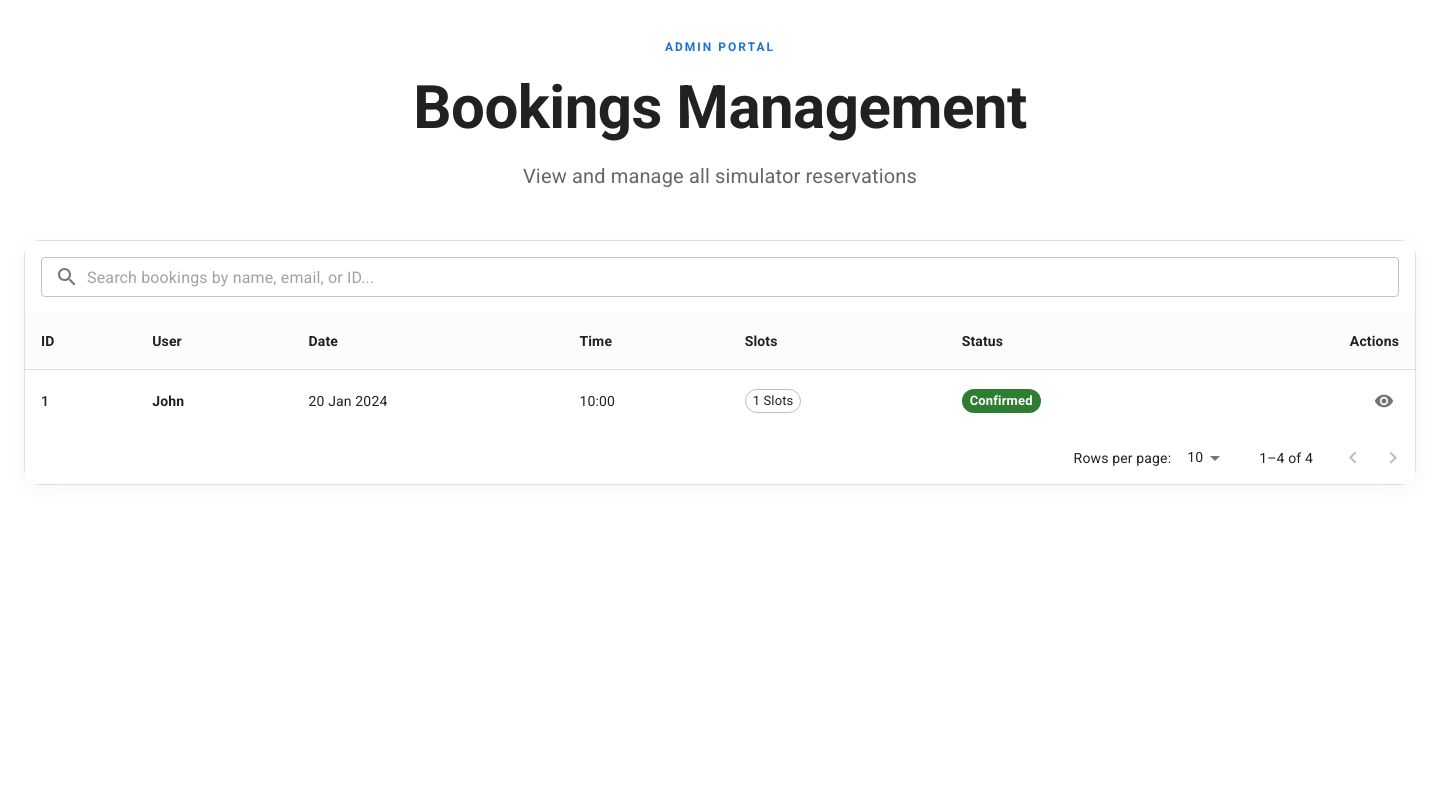
it: AdminBookings › should open details dialog when row clicked
Click the text "John": (168, 401) [152,393,184,409]
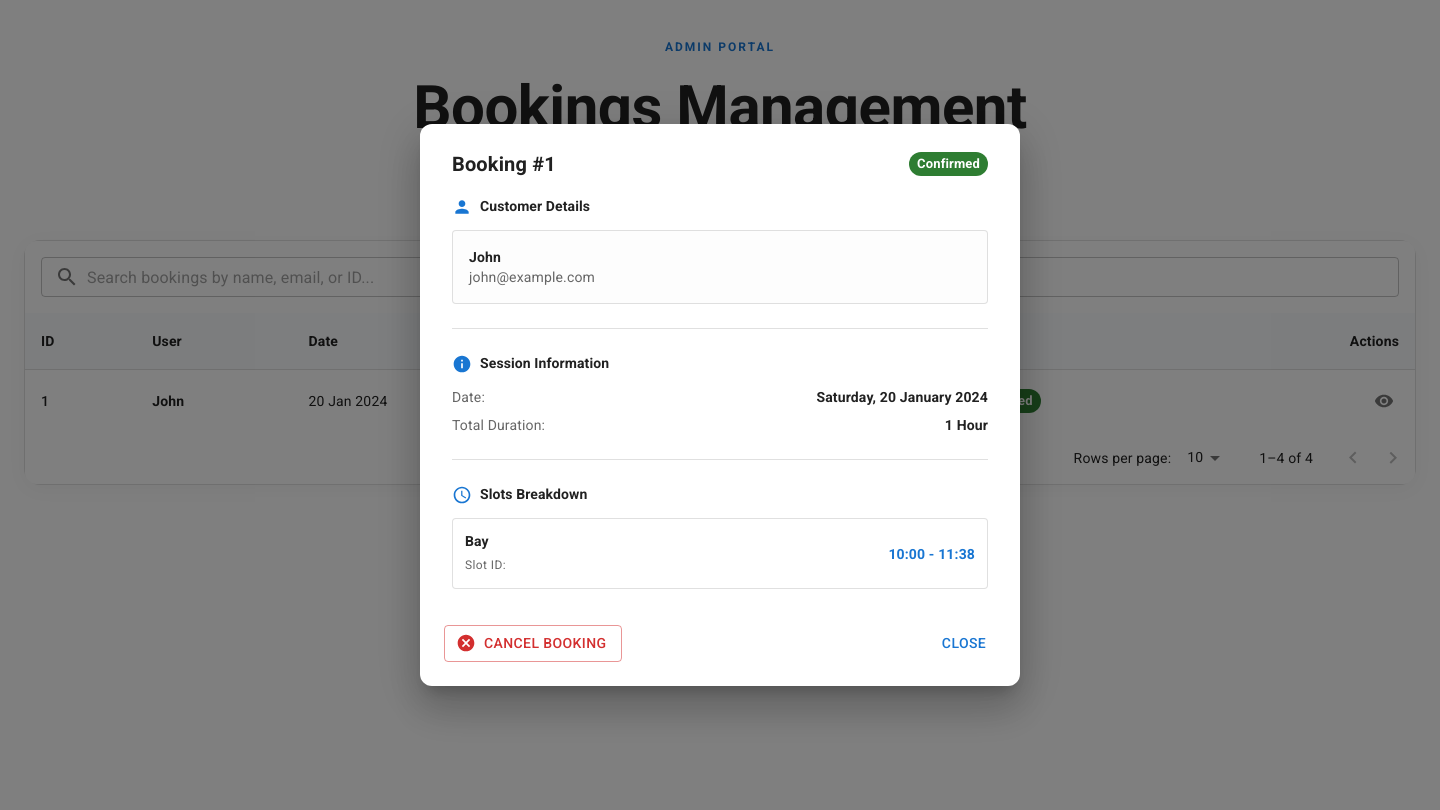
Result: the heading "Booking #1" is shown at [452,148,556,180]
